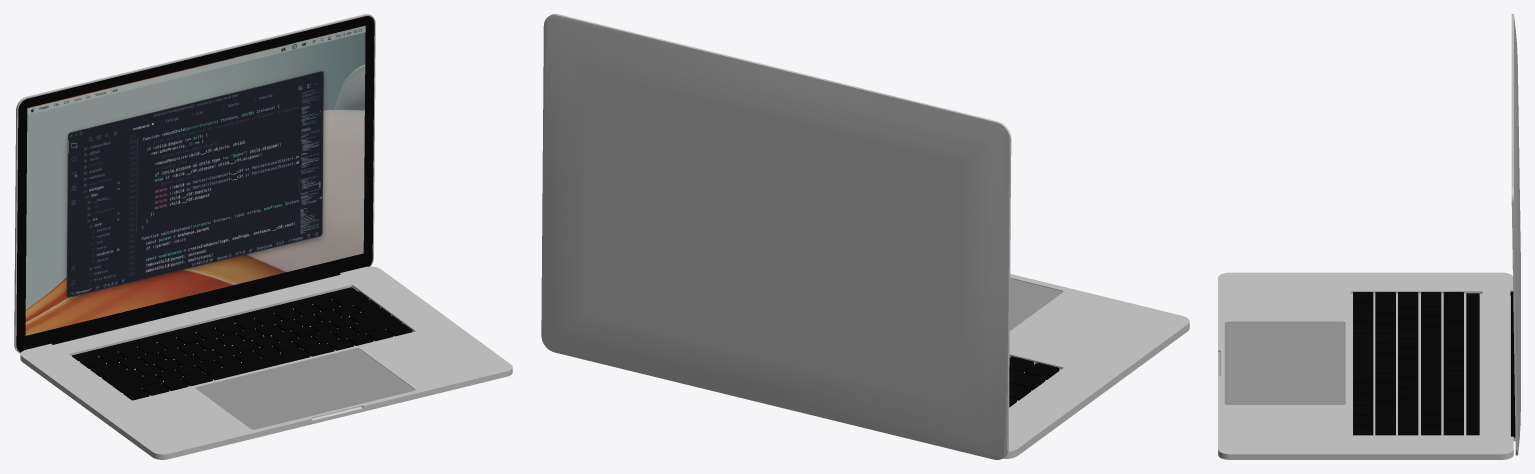
Rendered from laptop.glb.
3 renders of one model, left to right at view 1: azimuth 30°, elevation 25°; view 2: azimuth 150°, elevation 25°; view 3: azimuth 270°, elevation 25°, orthographic. The views are drawn at different scales.
Parts seen in each view (by area): view 1: screen, base, keyboard, touchbar; view 2: screen, base, keyboard; view 3: base, keyboard, screen, touchbar.
Boxes of the visible parts, <box> form: screen: <box>14,14,375,353</box>; base: <box>20,266,512,459</box>; keyboard: <box>79,291,412,400</box>; touchbar: <box>72,287,358,360</box>; screen: <box>541,14,1011,459</box>; base: <box>1002,274,1189,458</box>; keyboard: <box>1009,356,1059,407</box>; base: <box>1218,272,1513,459</box>; keyboard: <box>1353,292,1463,435</box>; screen: <box>1510,14,1520,455</box>; touchbar: <box>1466,293,1479,435</box>.
Size of the model in its own units: 8.81 by 6.16 by 6.2.
6 materials, 1 textured.
